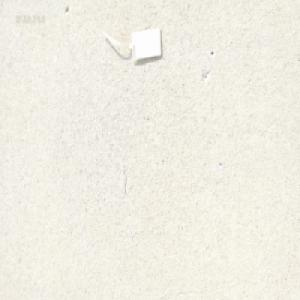LuggageTag: (99, 22, 164, 63)
